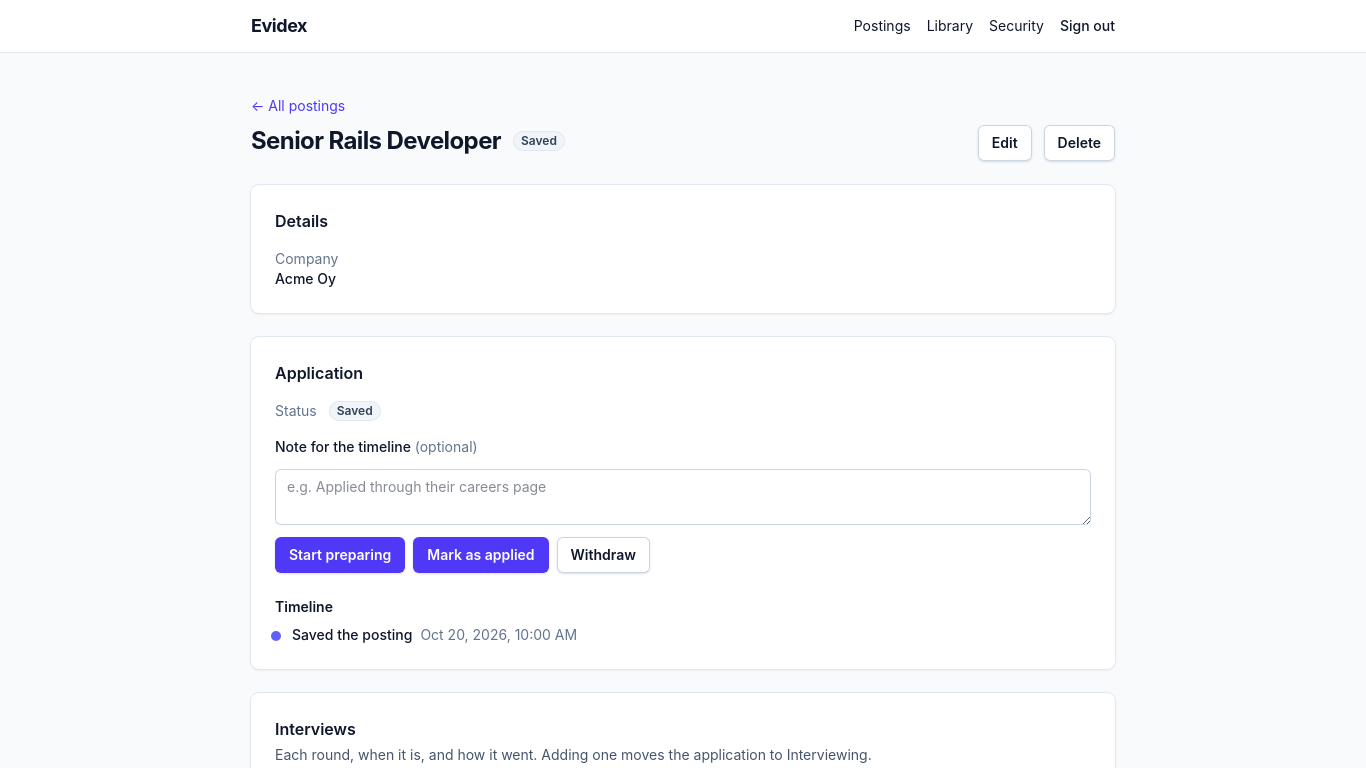
Test: Application card › moves the application to the next status with a note and shows it in the timeline
This screenshot has width=1366, height=768.
Type "Via careers page" into the text box labelled "Note for the timeline (optional)". click: (683, 497)
box: x1=275 y1=469 x2=1091 y2=525
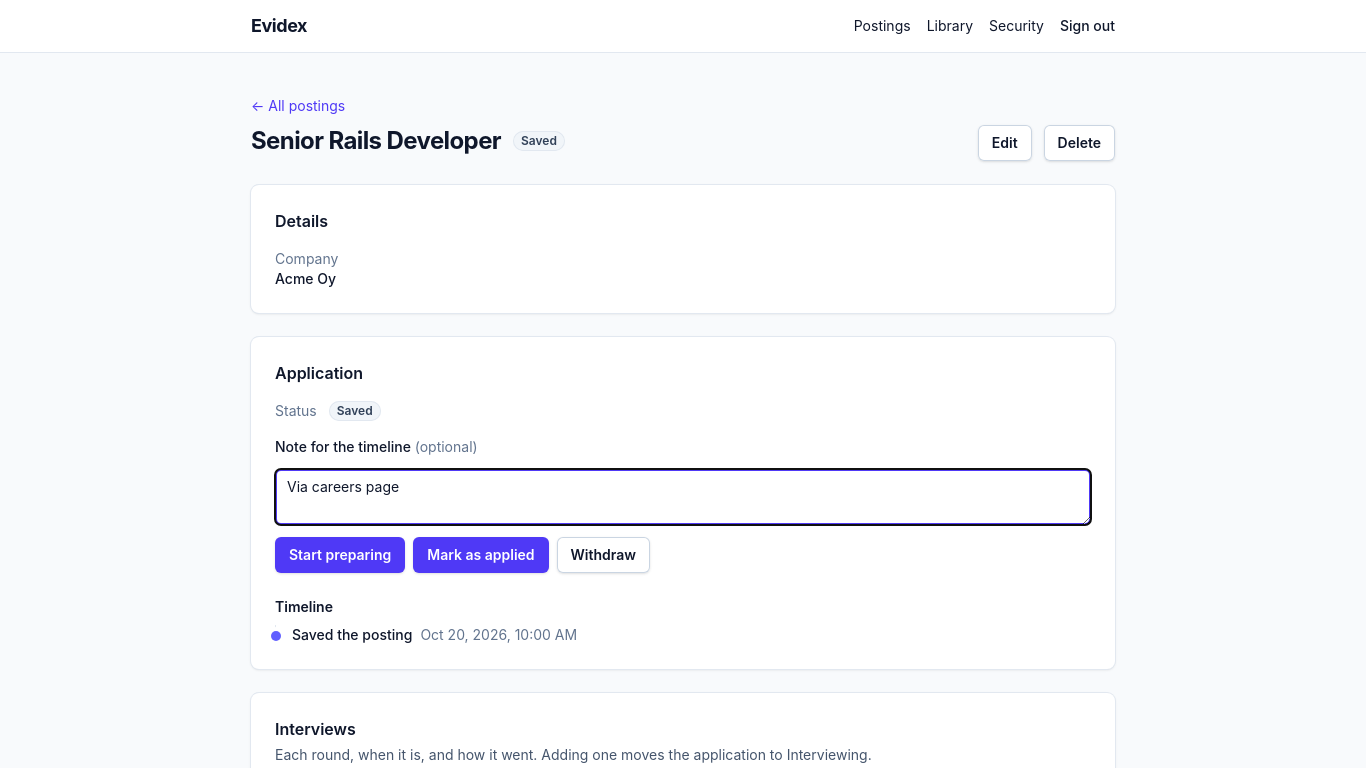
Click the button "Mark as applied". click: (481, 555)
box: x1=413 y1=537 x2=549 y2=573
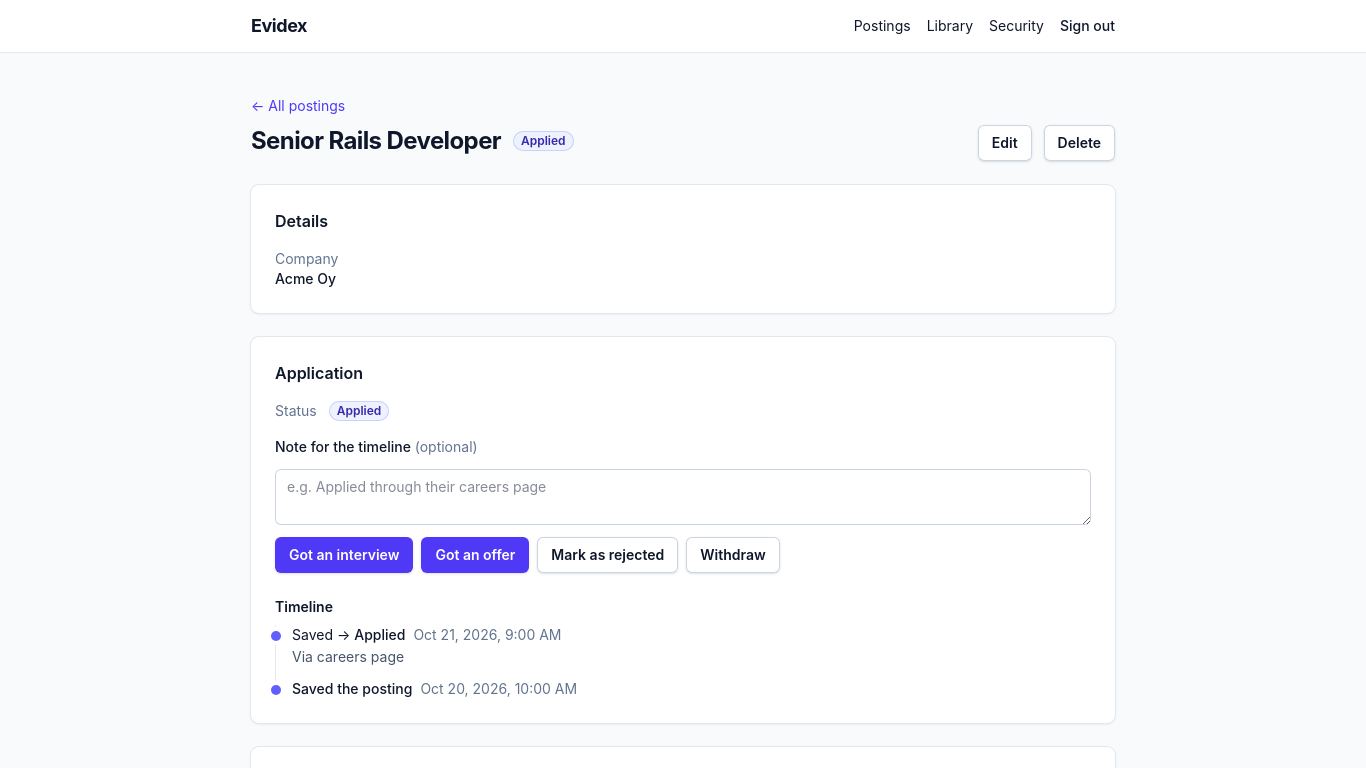
Now the button "Got an interview" is shown, box x1=275 y1=537 x2=413 y2=573
Now the text "Via careers page" is shown, box x1=292 y1=648 x2=404 y2=665
Now the text "Applied" next to "Oct 21, 2026, 9:00 AM" is shown, box x1=354 y1=626 x2=405 y2=643
